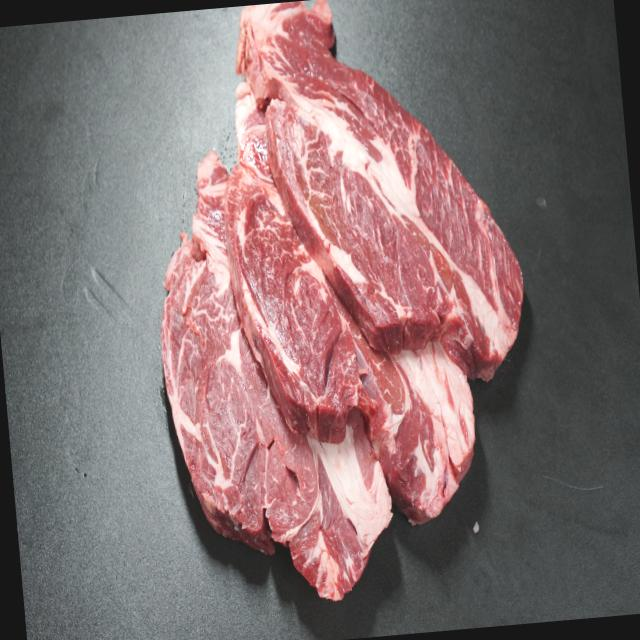beef: (288, 70, 468, 443), (182, 202, 362, 572)
